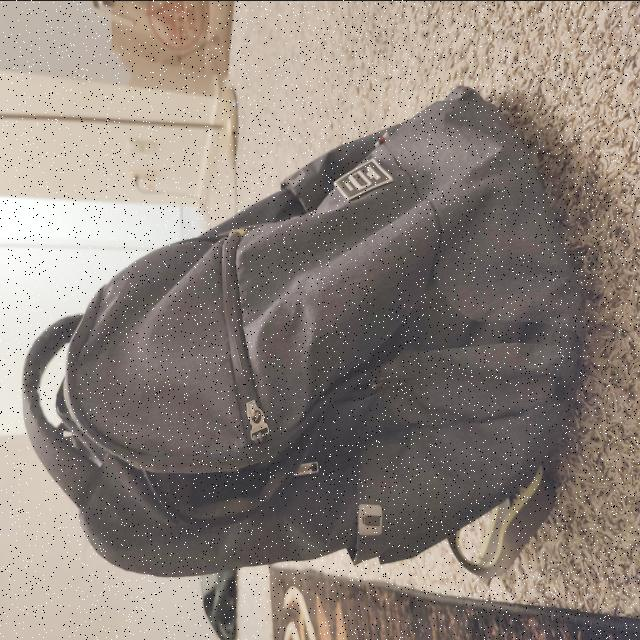bag: (27, 87, 574, 560)
